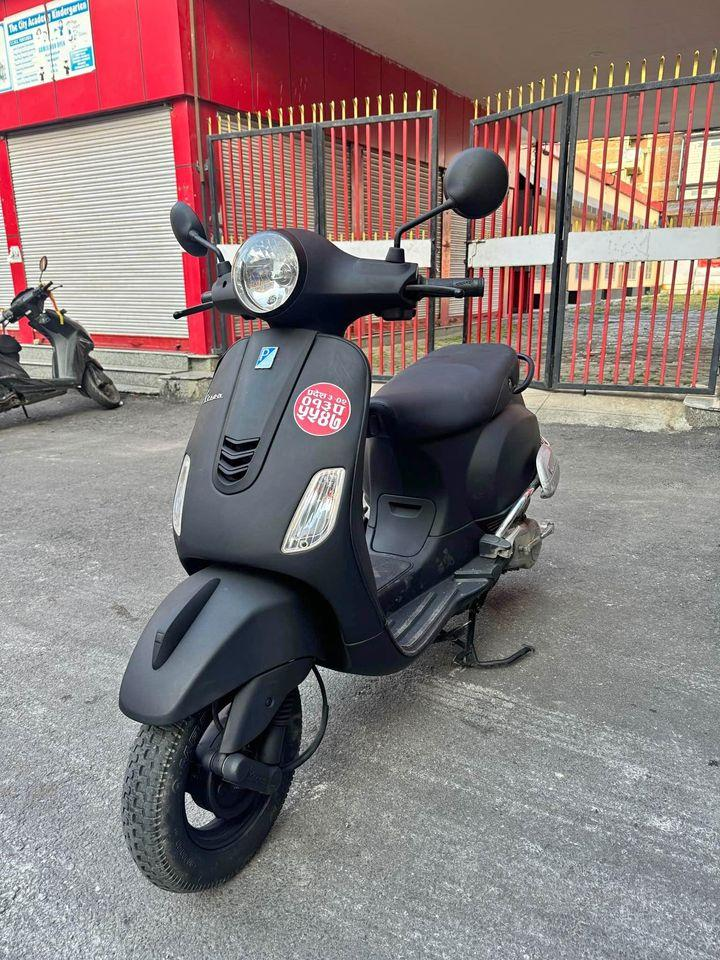scooter: (107, 140, 584, 899)
